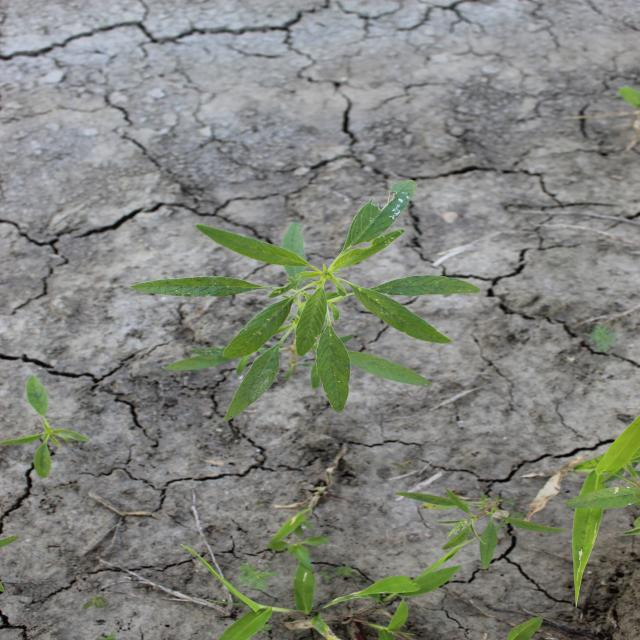Waterhemp: (128, 178, 482, 424), (392, 488, 565, 571), (2, 372, 94, 480)
